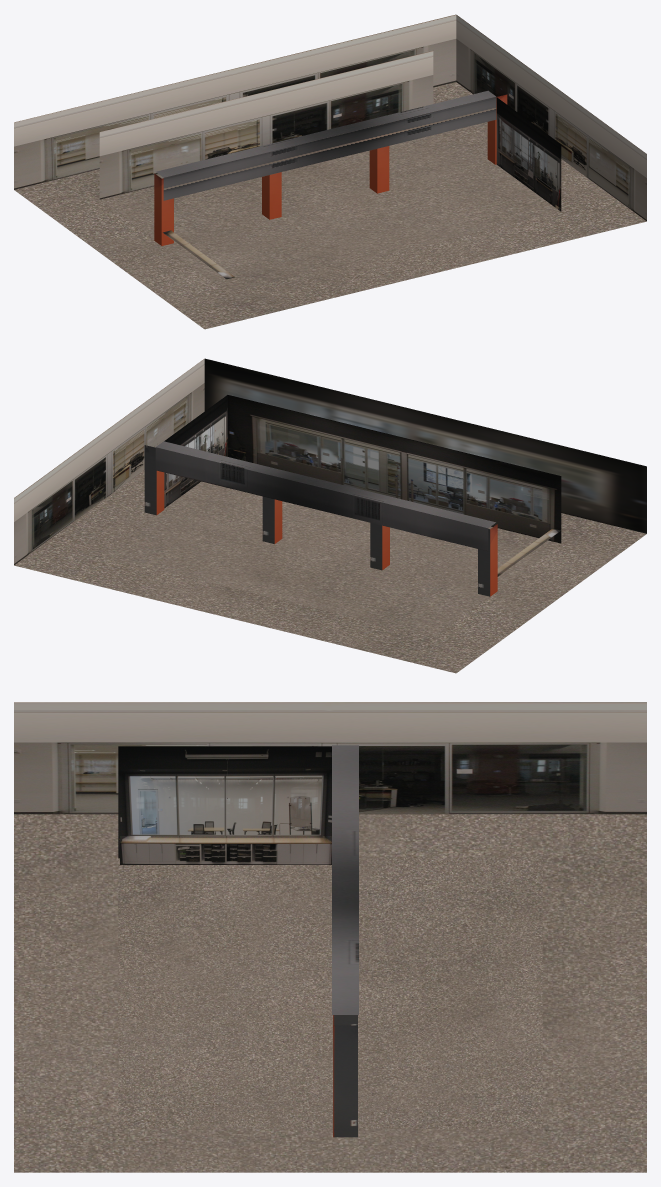
Rendered from 60_fifth_ave.gltf.
3 views of the same model, one above another, from view 1: azimuth 30°, elevation 25°; view 2: azimuth 150°, elevation 25°; view 3: azimuth 270°, elevation 25° (orthographic). The views are drawn at different scales.
Visible parts, largest first — view 1: Floor_Outer, Floor_InnerBack, Wall_FrontInner, Wall_FrontOuter, Floor_InnerFront, Wall_RightOuter, Hangover, Wall_RightInner, Column4, Column2, Column1, Cabinet (+1 smaller); view 2: Floor_Outer, Wall_BackInner, Floor_InnerFront, Wall_BackOuter, Wall_RightOuter, Floor_InnerBack, Hangover, Wall_RightInner, Column3, Column4, Column2, Column1 (+1 smaller); view 3: Floor_Outer, Floor_InnerBack, Wall_LeftOuter, Floor_InnerFront, Wall_LeftInner, Hangover, Cabinet, Column3.
Part boxes in pixels (box(x1,y1,x2,y2)): Floor_Outer: box(14, 82, 646, 329); Floor_InnerBack: box(163, 164, 560, 292); Wall_FrontInner: box(99, 51, 433, 199); Wall_FrontOuter: box(14, 14, 456, 189); Floor_InnerFront: box(100, 131, 495, 243); Wall_RightOuter: box(456, 15, 646, 221); Hangover: box(156, 90, 496, 200); Wall_RightInner: box(496, 97, 561, 211); Column4: box(154, 173, 173, 245); Column2: box(369, 146, 389, 193); Column1: box(262, 172, 281, 219); Cabinet: box(163, 230, 234, 279); Floor_Outer: box(14, 470, 646, 673); Wall_BackInner: box(227, 395, 561, 543); Floor_InnerFront: box(100, 510, 488, 636); Wall_BackOuter: box(204, 358, 646, 533); Wall_RightOuter: box(14, 359, 204, 565); Floor_InnerBack: box(164, 481, 560, 589); Hangover: box(155, 441, 495, 551); Wall_RightInner: box(164, 395, 227, 508); Column3: box(144, 445, 164, 515); Column4: box(478, 524, 497, 596); Column2: box(262, 496, 282, 544); Column1: box(370, 522, 389, 570); Floor_Outer: box(14, 814, 646, 1172); Floor_InnerBack: box(118, 858, 332, 1128); Wall_LeftOuter: box(14, 702, 646, 814); Floor_InnerFront: box(332, 858, 542, 1128); Wall_LeftInner: box(118, 746, 331, 858); Hangover: box(332, 745, 358, 1014); Cabinet: box(120, 836, 331, 864); Column3: box(333, 1025, 357, 1137).
Size of the model in its own units: 19.6 by 2.89 by 14.63.
Materials: 12 (11 with a texture image).
